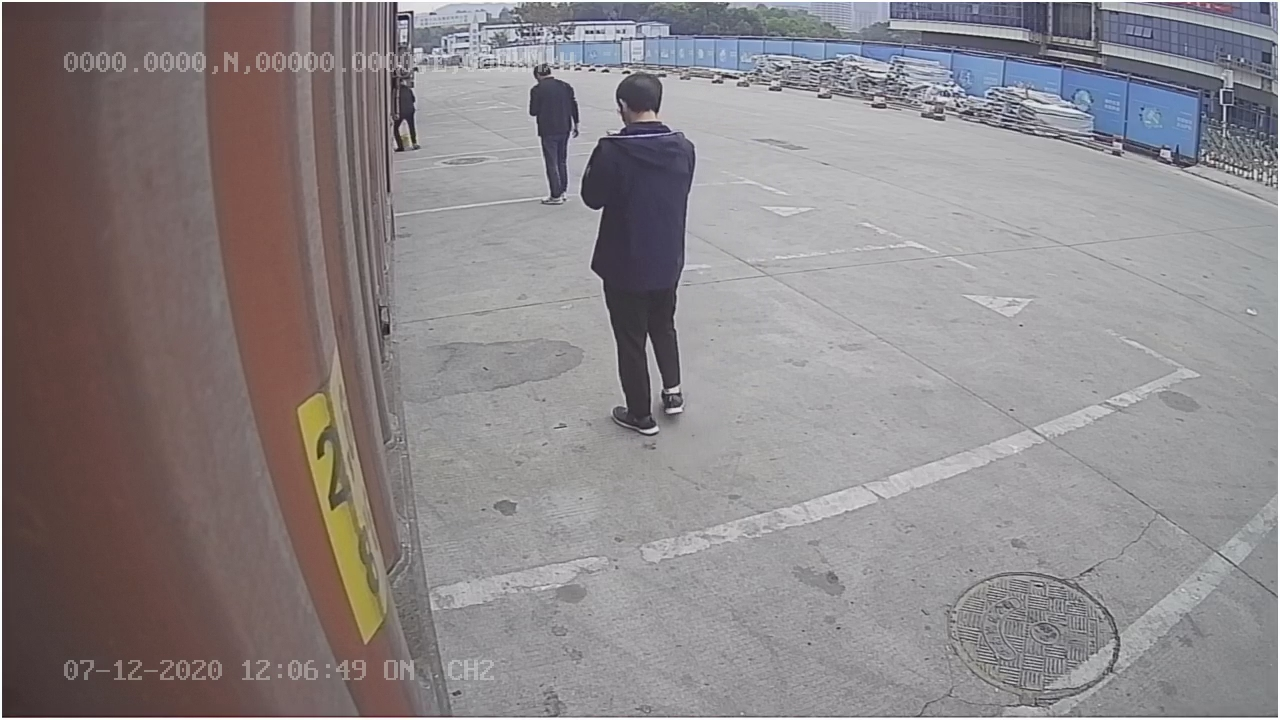person: (580, 71, 698, 437)
